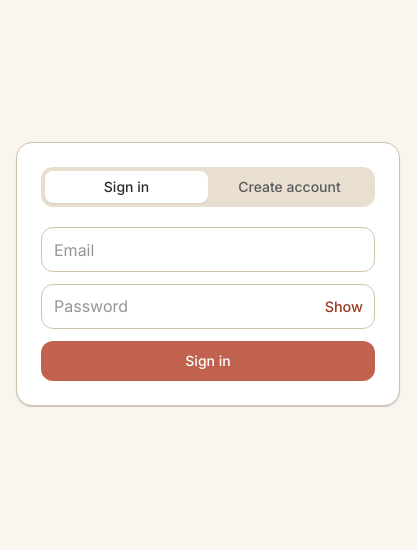
Scenario: SignInPage › Create account shows the full form from the design
Step 1. Click the button "Create account" → (290, 187), box [208, 171, 371, 203]
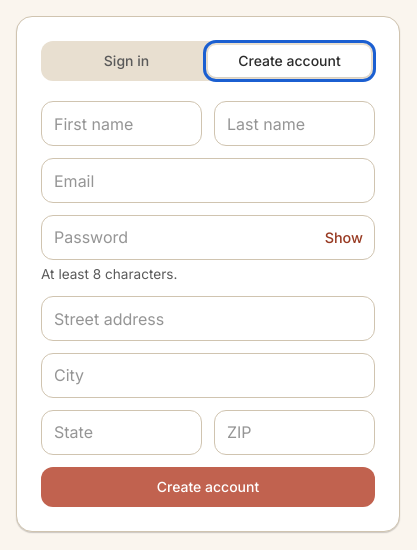
Result: the field labelled "First name" is shown at [41, 101, 202, 146]
Result: the field labelled "Last name" is shown at [214, 101, 375, 146]
Result: the field labelled "Street address" is shown at [41, 296, 375, 341]
